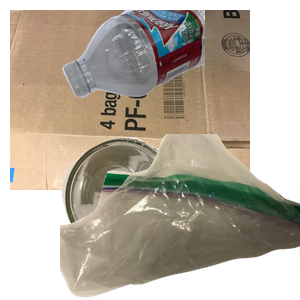cardboard: (10, 10, 250, 190)
glass: (59, 135, 254, 300)
plastic: (60, 10, 300, 100)
trash: (60, 134, 300, 300)
